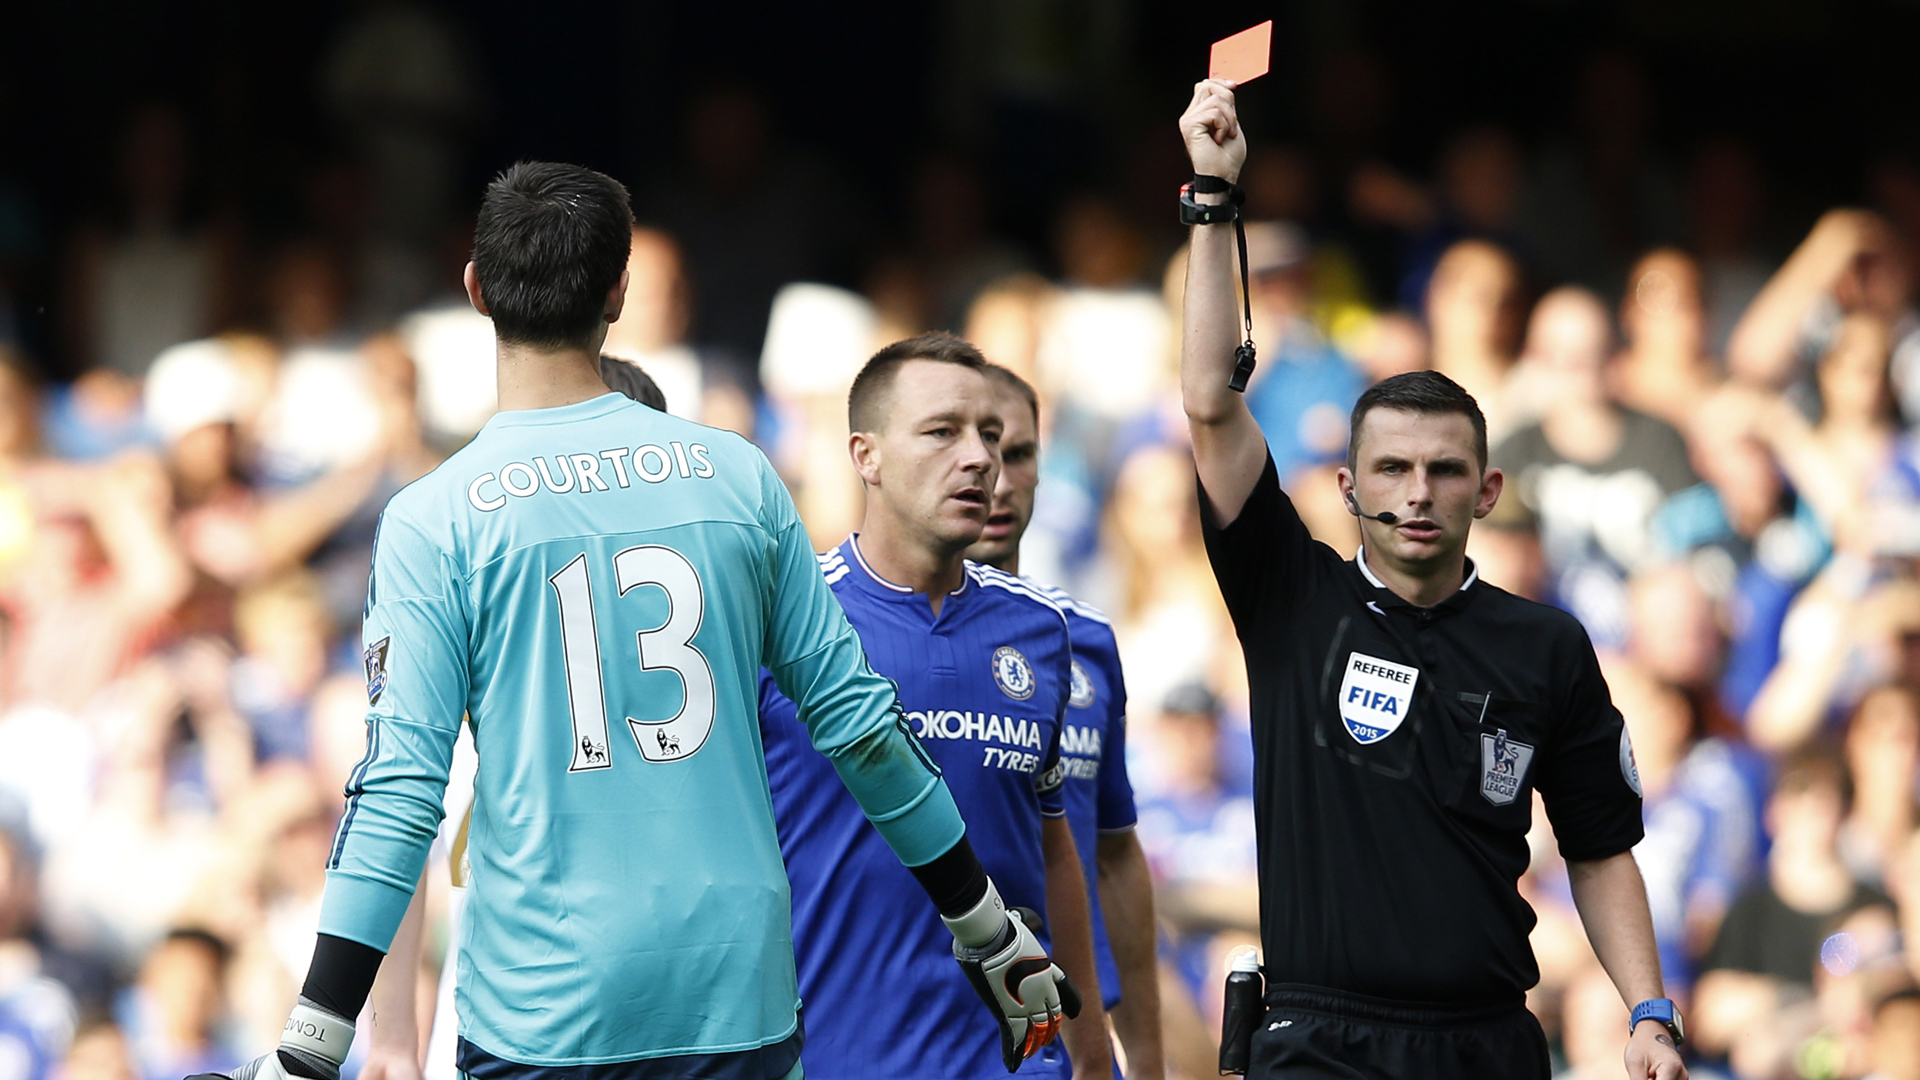red_card: (1151, 13, 1303, 189)
